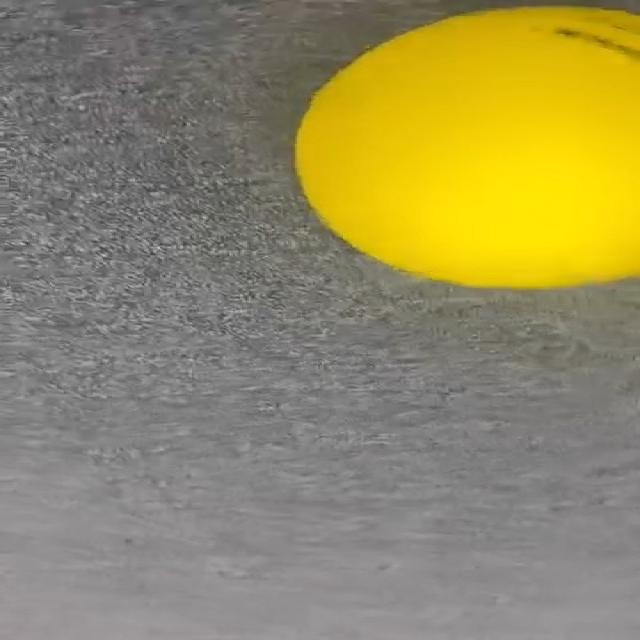Fuels: (295, 7, 640, 284)
